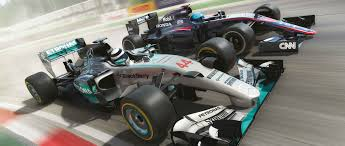FormulaOneCar: (23, 36, 286, 146), (112, 2, 324, 71)
